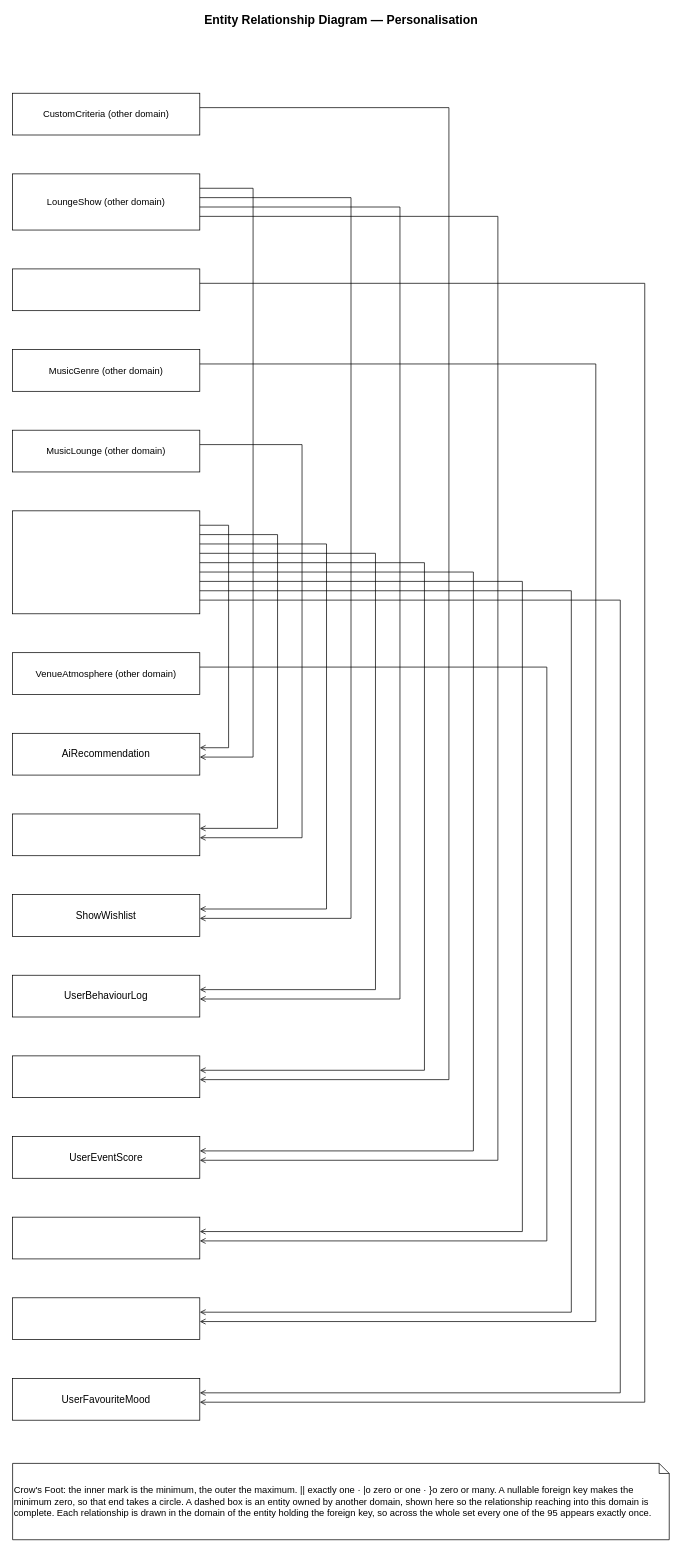
Some shapes in this 682 by 1552 pixel diagram are drawn without their labels. The box of each missing label's shape, as (x1, y1, x2, y2) in pixels:
Follow: (12, 813, 200, 856)
Mood (other domain): (12, 268, 200, 311)
User (other domain): (12, 510, 200, 614)
UserCustomPreference: (12, 1055, 200, 1098)
UserFavouriteAtmosphere: (12, 1216, 200, 1259)
UserFavouriteGenre: (12, 1297, 200, 1340)
